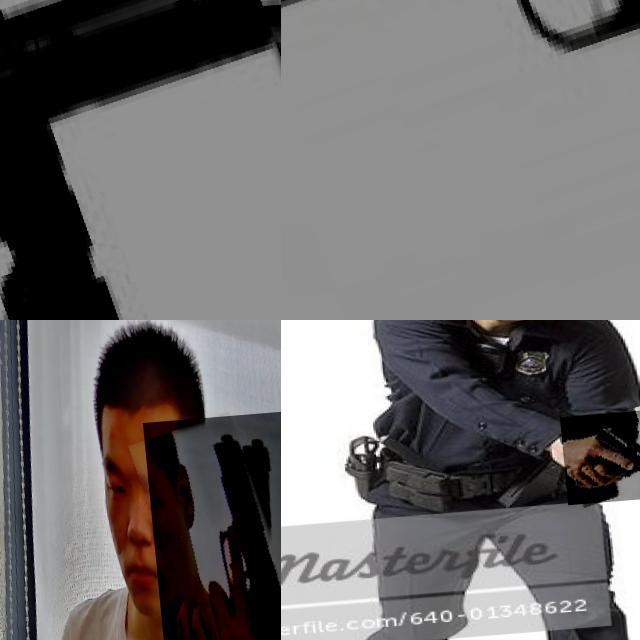gun-knife-thesis - v11 Yolov5 augmented: (281, 0, 640, 320), (0, 0, 281, 320), (139, 421, 281, 640), (555, 417, 640, 511)
